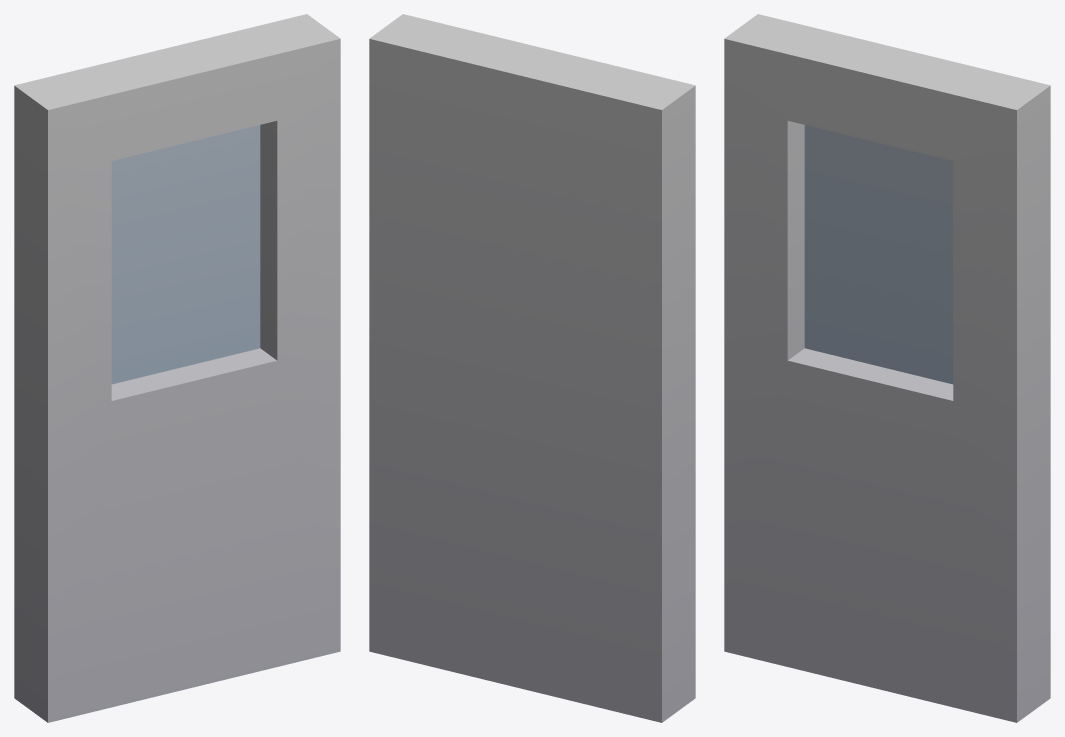
File: door-white-window.glb
3 views of the same model, side by side, from view 1: azimuth 30°, elevation 25°; view 2: azimuth 150°, elevation 25°; view 3: azimuth 330°, elevation 25° (orthographic).
Parts seen in each view (by area): view 1: door-white-window; view 2: door-white-window; view 3: door-white-window.
Boxes of the visible parts, box(x1,y1,x2,y2) form: door-white-window: box(14, 14, 340, 722); door-white-window: box(369, 14, 695, 722); door-white-window: box(724, 14, 1050, 722).
Bounding box in the file's own units: 0.25 × 0.5 × 0.05.
